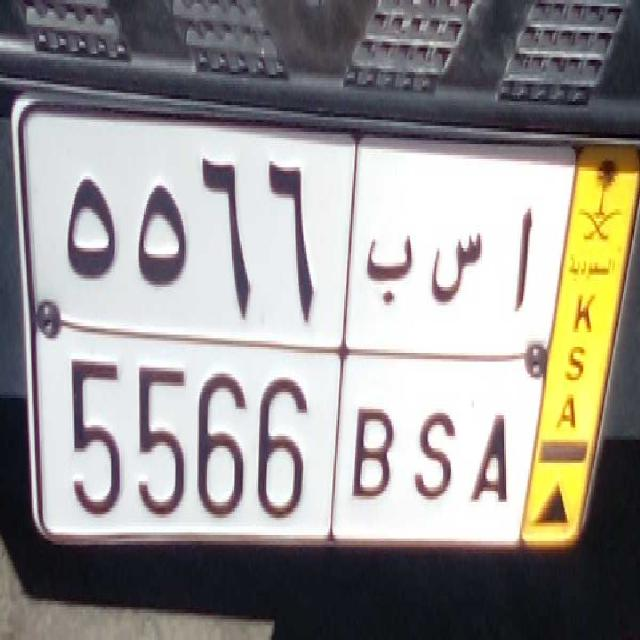license_plate: (51, 320, 530, 560)
